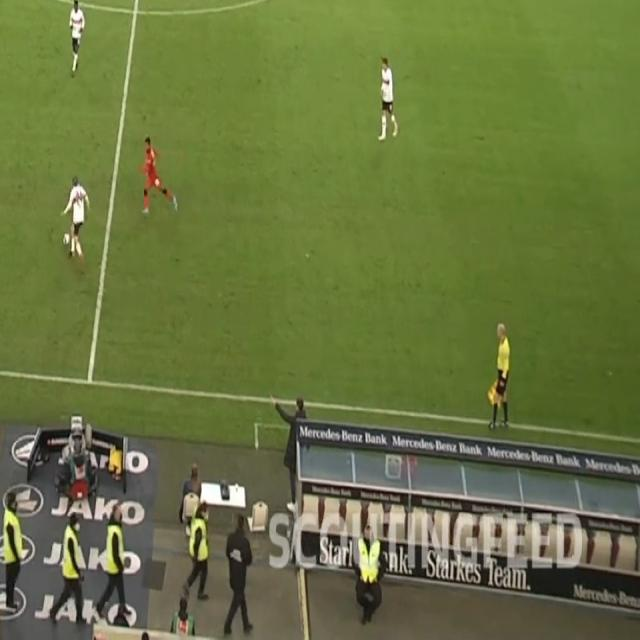ball: (62, 232, 71, 248)
